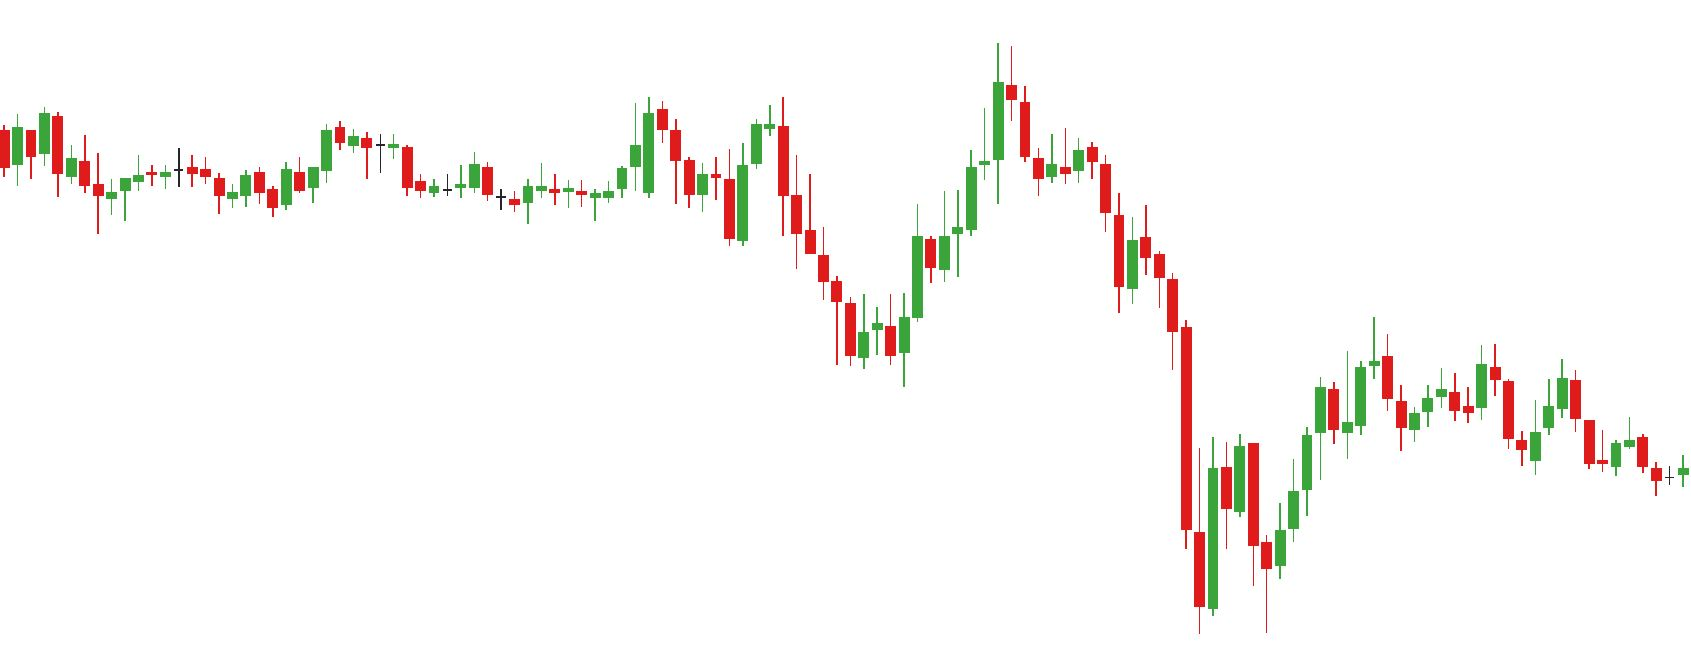buy: (1190, 443, 1288, 636)
sell: (761, 35, 1019, 229)
